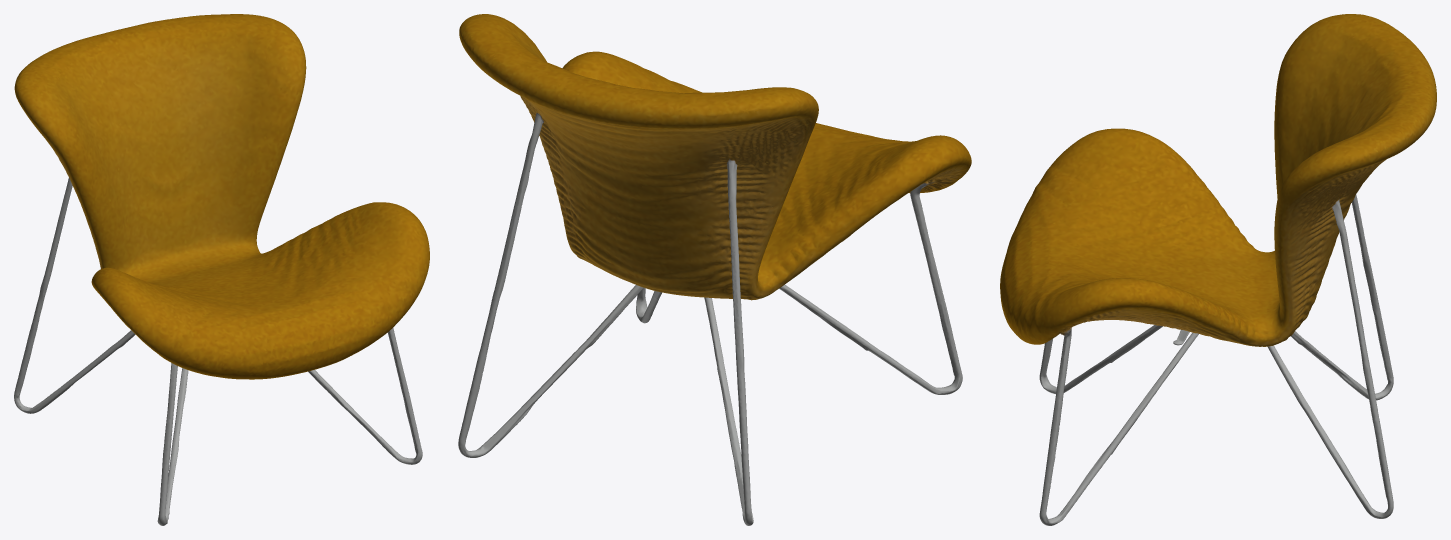
File: lounge_chair.glb
3 views of the same model, side by side, from view 1: azimuth 30°, elevation 25°; view 2: azimuth 150°, elevation 25°; view 3: azimuth 270°, elevation 25° (orthographic). The views are drawn at different scales.
Size of the model in its own units: 0.9117 by 0.957 by 0.9994.
